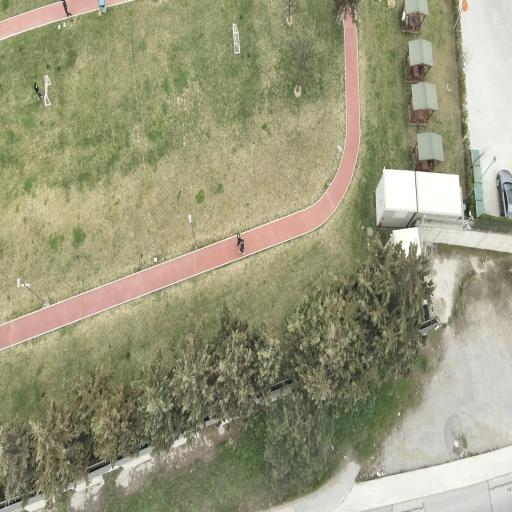car: (496, 170, 511, 219)
person: (62, 0, 71, 16), (34, 83, 42, 100), (237, 233, 243, 245), (239, 242, 244, 254), (418, 65, 423, 75), (402, 11, 406, 22)
